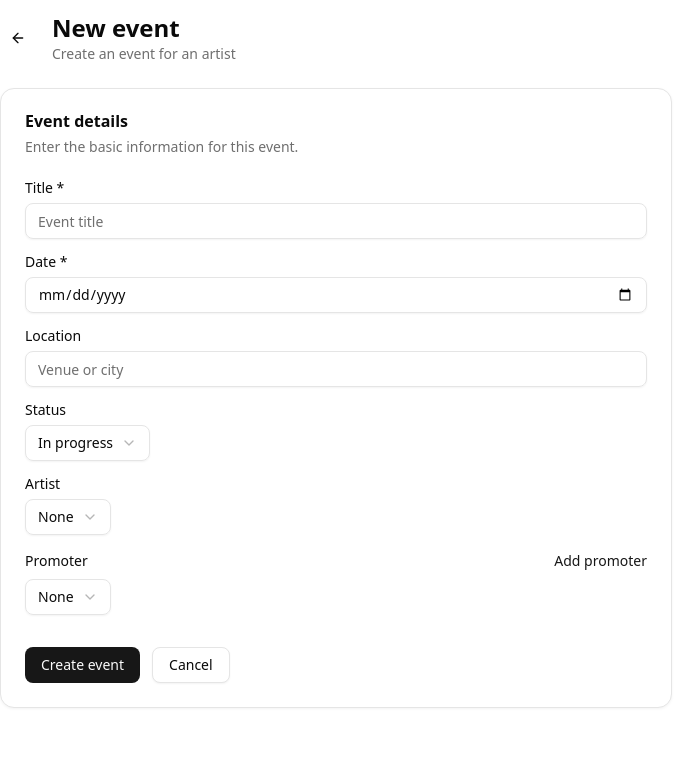
Scenario: BB-10: event returned creation failure retains native form values and permits retry
Expected: the button "Create event" is enabled, [25, 647, 140, 683]
Type "Retained Event" into the field labelled "Title *" at (336, 221), box [25, 203, 647, 239]
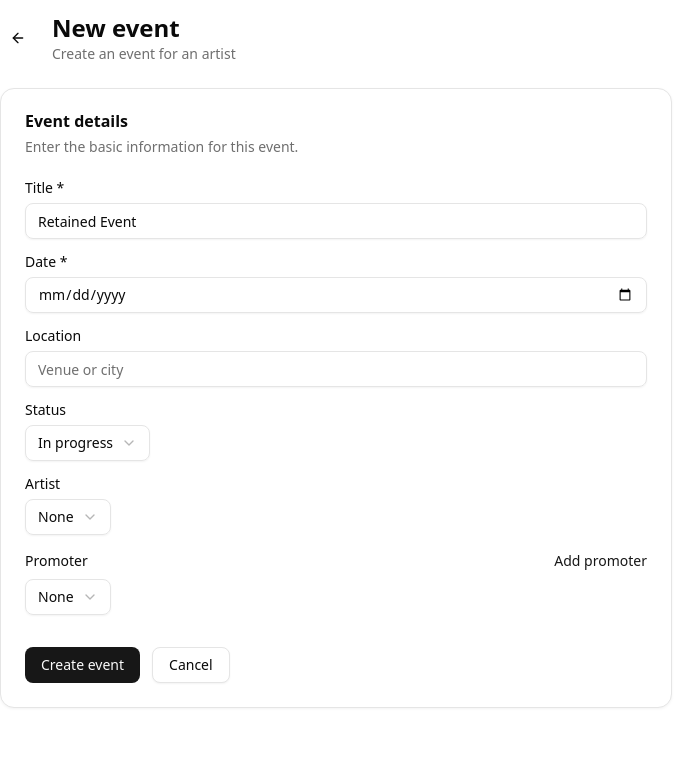
Type "2030-01-02" into the date field labelled "Date *" at (336, 295), box [25, 277, 647, 313]
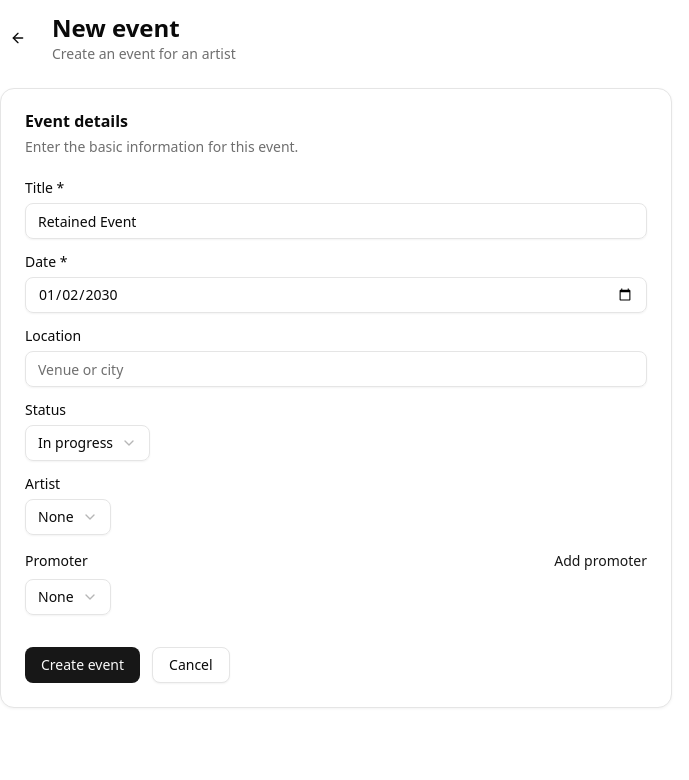
Type "Retained Venue" into the field labelled "Location" at (336, 369), box [25, 351, 647, 387]
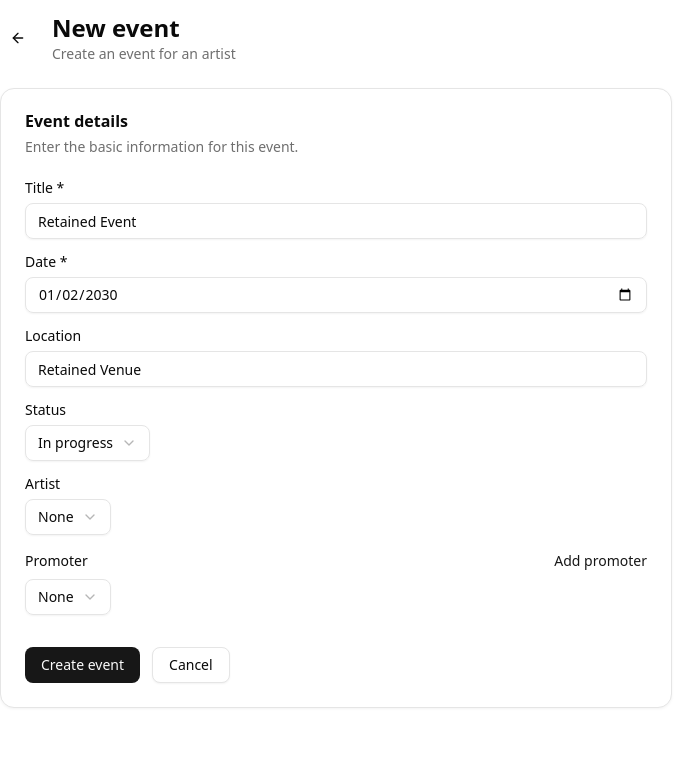
Click the button "Create event" at (82, 665), box [25, 647, 140, 683]
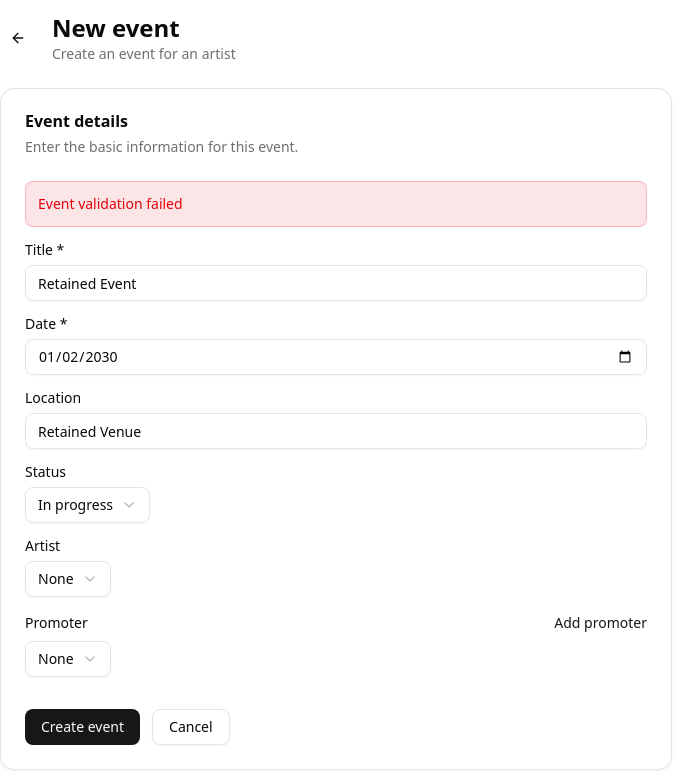
Expected: the message reads "Event validation failed", [38, 194, 183, 213]
Click the button "Create event" at (82, 727), box [25, 709, 140, 745]
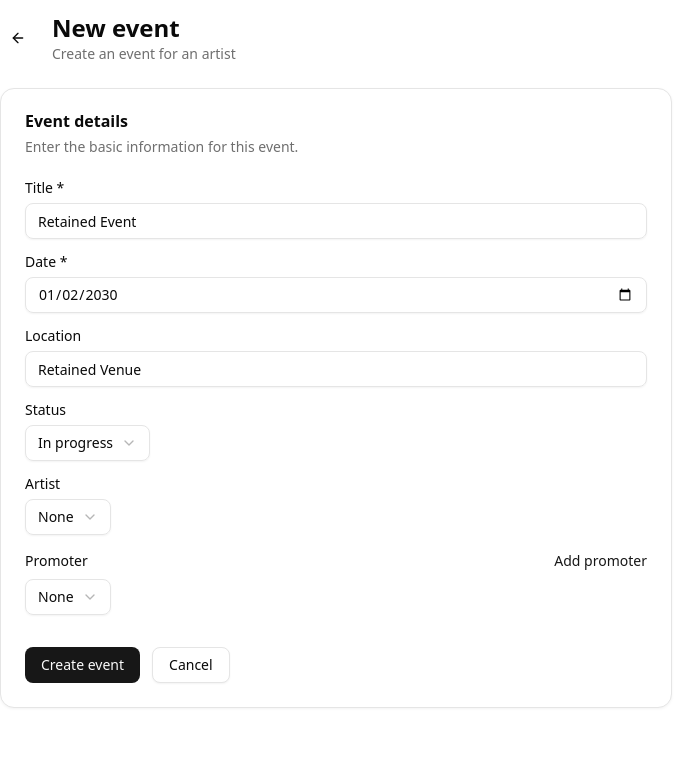
Expected: the message "Event validation failed" is gone
